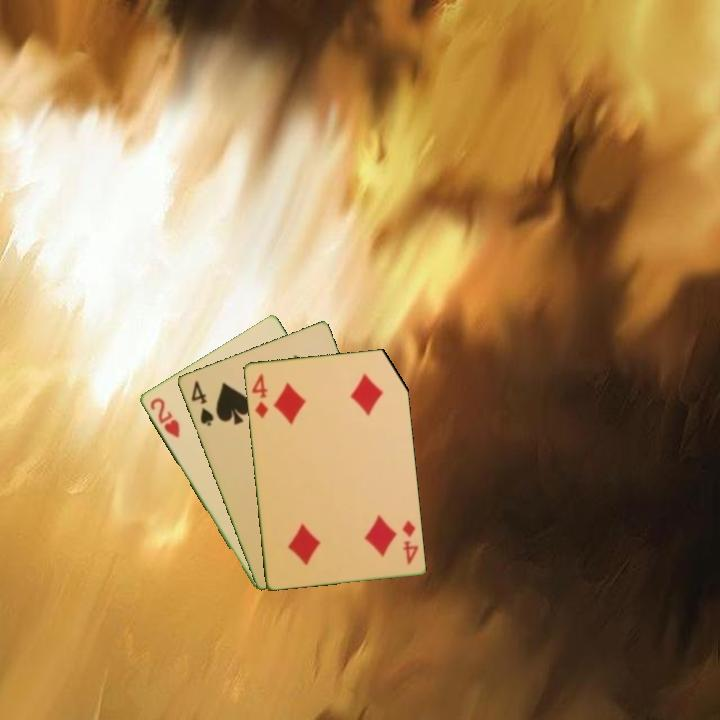2h: (146, 394, 182, 441)
4d: (398, 516, 421, 568), (248, 370, 271, 421)
4s: (187, 377, 216, 429)
